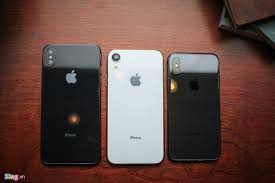iphone: (37, 41, 103, 167), (104, 47, 167, 167)
iphone10: (38, 41, 104, 167)
